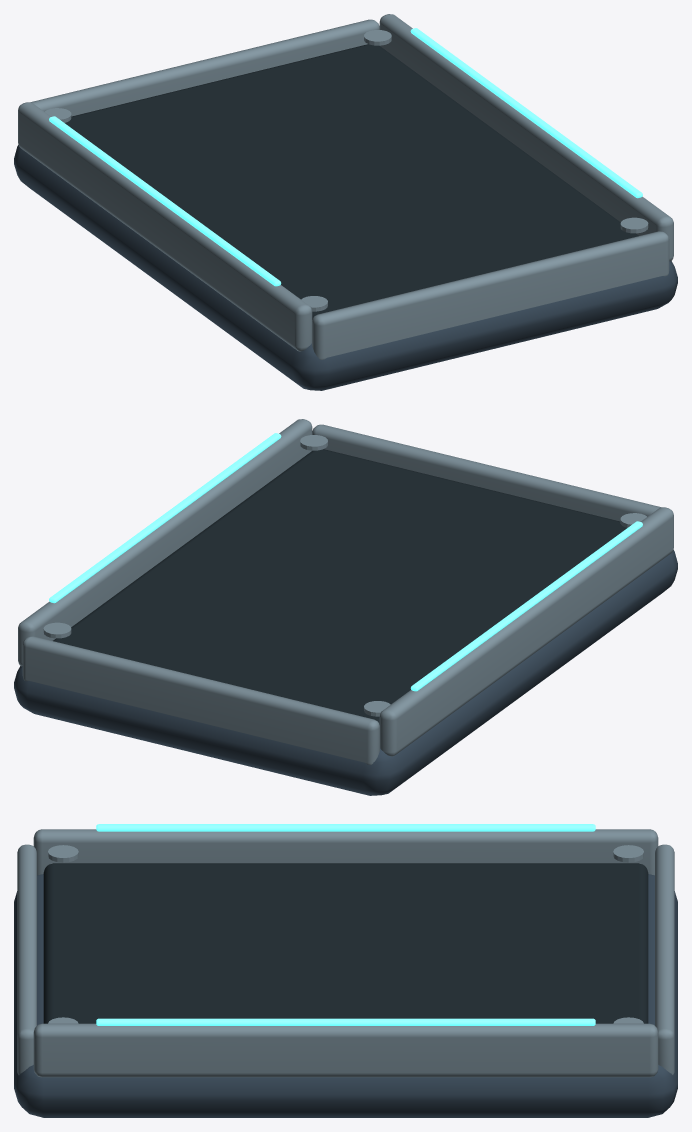
Rendered from reward_cradle.glb.
3 views of the same model, one above another, from view 1: azimuth 30°, elevation 25°; view 2: azimuth 150°, elevation 25°; view 3: azimuth 270°, elevation 25° (orthographic). The views are drawn at different scales.
Visible parts, largest first — view 1: Recessed reward bed, Raised alloy rail, Reward cradle base, Light guide; view 2: Recessed reward bed, Raised alloy rail, Reward cradle base, Light guide; view 3: Recessed reward bed, Raised alloy rail, Reward cradle base, Light guide.
Part boxes in pixels (x1=…): Recessed reward bed: x1=65, y1=44, x2=638, y2=319; Raised alloy rail: x1=18, y1=14, x2=673, y2=359; Reward cradle base: x1=14, y1=145, x2=677, y2=390; Light guide: x1=49, y1=28, x2=642, y2=286; Recessed reward bed: x1=53, y1=449, x2=626, y2=724; Raised alloy rail: x1=18, y1=419, x2=673, y2=764; Reward cradle base: x1=14, y1=550, x2=677, y2=795; Light guide: x1=49, y1=433, x2=642, y2=691; Recessed reward bed: x1=43, y1=863, x2=648, y2=1023; Raised alloy rail: x1=17, y1=829, x2=674, y2=1077; Reward cradle base: x1=14, y1=874, x2=677, y2=1117; Light guide: x1=96, y1=824, x2=595, y2=1025.
Bounding box in the file's own units: 1.48 × 0.344 × 2.02.
